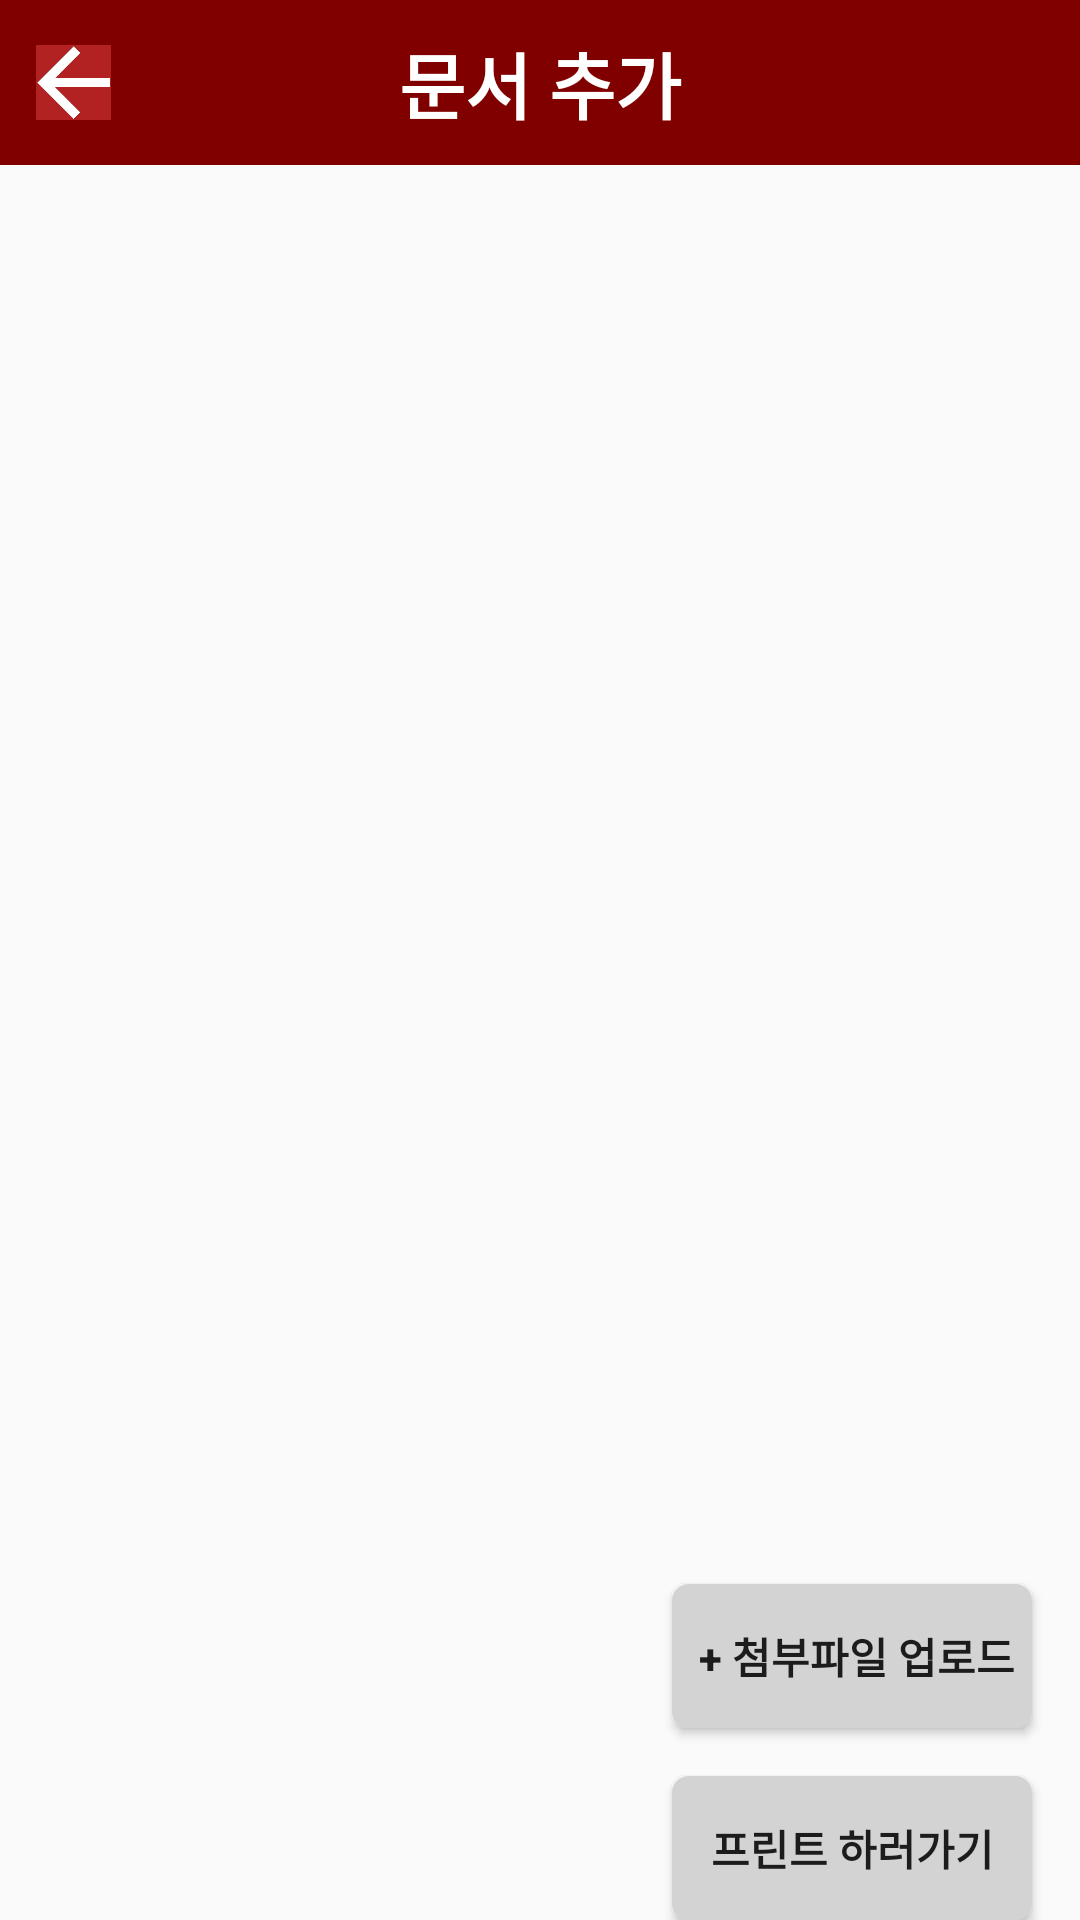

Locate icon controls on the screen. Image size 1080w x 1920h, boxes as (x1, y1, x2, y2).
left: (36, 45, 111, 120)
